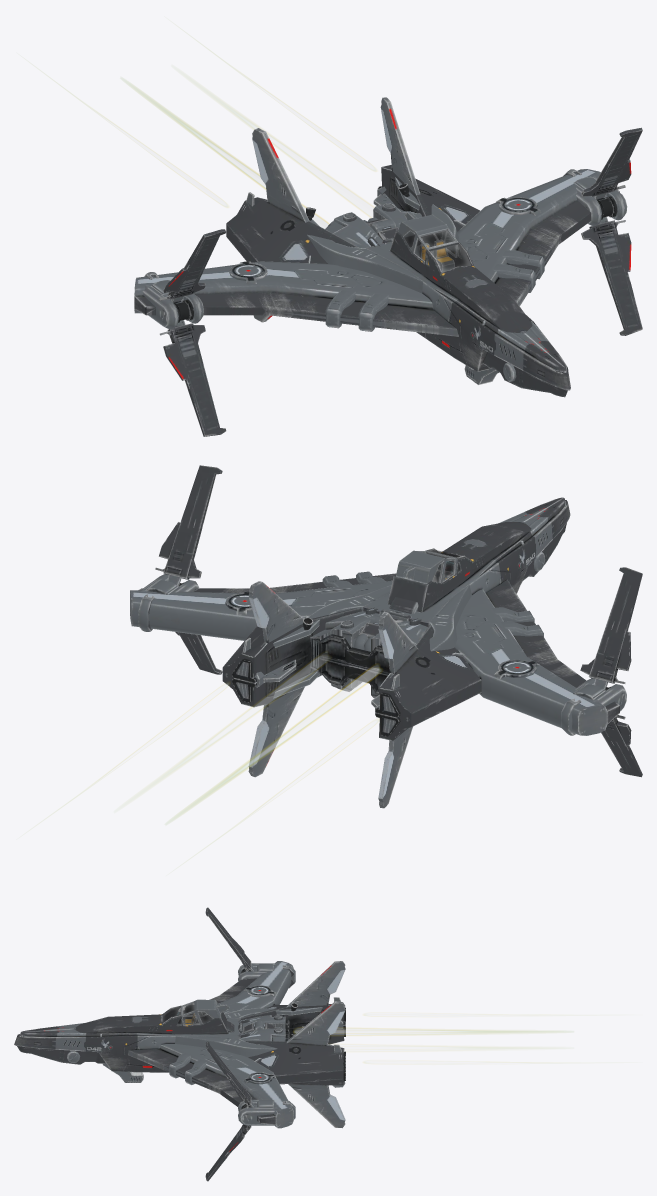
The model's file is raven.glb.
The picture shows the model from 3 angles, top to bottom: view 1: azimuth 30°, elevation 25°; view 2: azimuth 150°, elevation 25°; view 3: azimuth 270°, elevation 25°; orthographic projection. The views are drawn at different scales.
Visible parts, largest first — view 1: Object_3, Object_6, Object_4; view 2: Object_3, Object_6; view 3: Object_3, Object_6, Object_4.
Boxes of the visible parts, x1,y1,x2,y2 form: Object_3: (134, 97, 642, 436); Object_6: (56, 46, 376, 228); Object_4: (404, 229, 470, 272); Object_3: (130, 465, 642, 808); Object_6: (58, 654, 381, 845); Object_3: (14, 907, 345, 1181); Object_6: (293, 1013, 569, 1063); Object_4: (163, 1003, 212, 1025).
Size of the model in its own units: 1699 by 703 by 2959.
4 materials, 4 textured.
